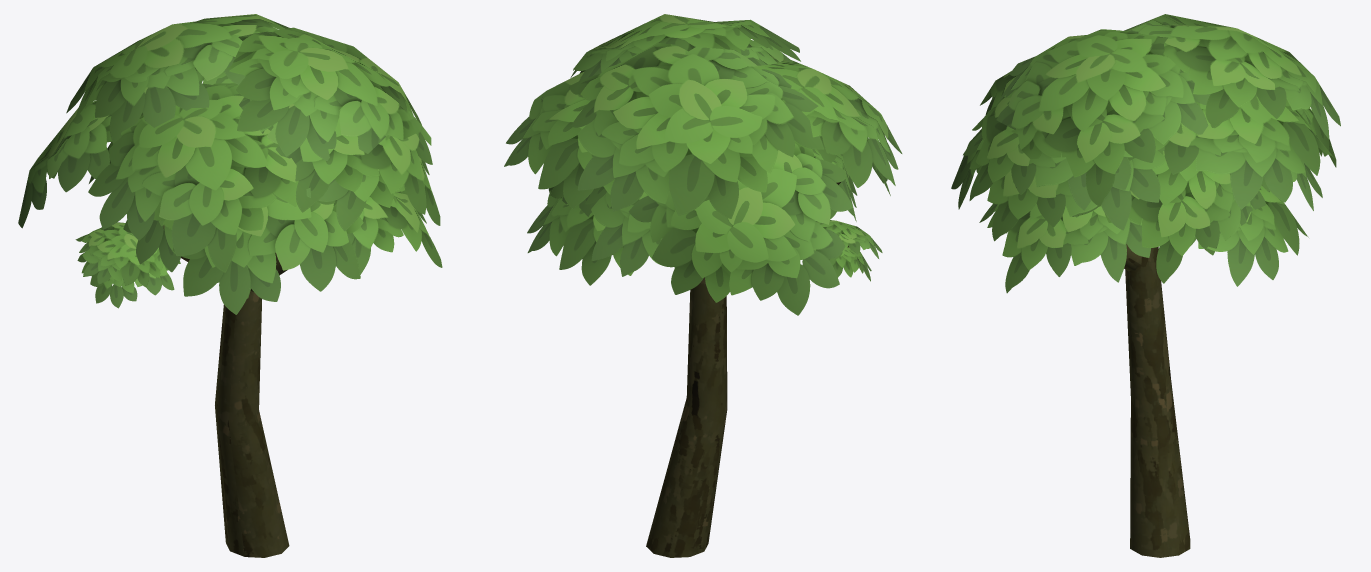
The picture shows the model from 3 angles, left to right: view 1: azimuth 30°, elevation 25°; view 2: azimuth 150°, elevation 25°; view 3: azimuth 270°, elevation 25°; orthographic projection.
Parts seen in each view (by area): view 1: 8480a643e36c0194bf11e79cbc019e38e5ff72b8bc295b144212e5f7a5b3; view 2: 8480a643e36c0194bf11e79cbc019e38e5ff72b8bc295b144212e5f7a5b3; view 3: 8480a643e36c0194bf11e79cbc019e38e5ff72b8bc295b144212e5f7a5b3.
Boxes of the visible parts, <box> form: 8480a643e36c0194bf11e79cbc019e38e5ff72b8bc295b144212e5f7a5b3: <box>18,14,442,557</box>; 8480a643e36c0194bf11e79cbc019e38e5ff72b8bc295b144212e5f7a5b3: <box>504,14,902,557</box>; 8480a643e36c0194bf11e79cbc019e38e5ff72b8bc295b144212e5f7a5b3: <box>951,14,1340,557</box>.
Bounding box in the file's own units: 4.14 × 5.54 × 4.13.
2 materials, 2 textured.
